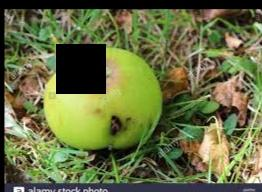rotten apple: (42, 43, 166, 150)
